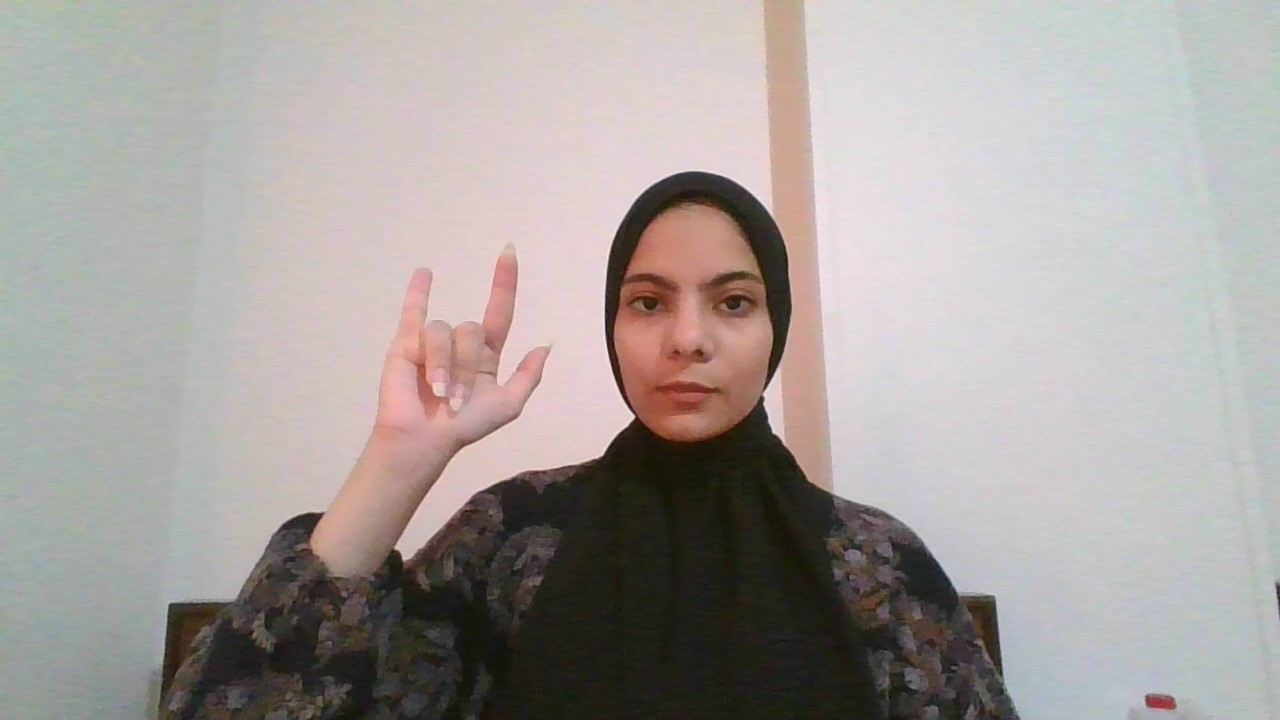love: (371, 227, 558, 461)
